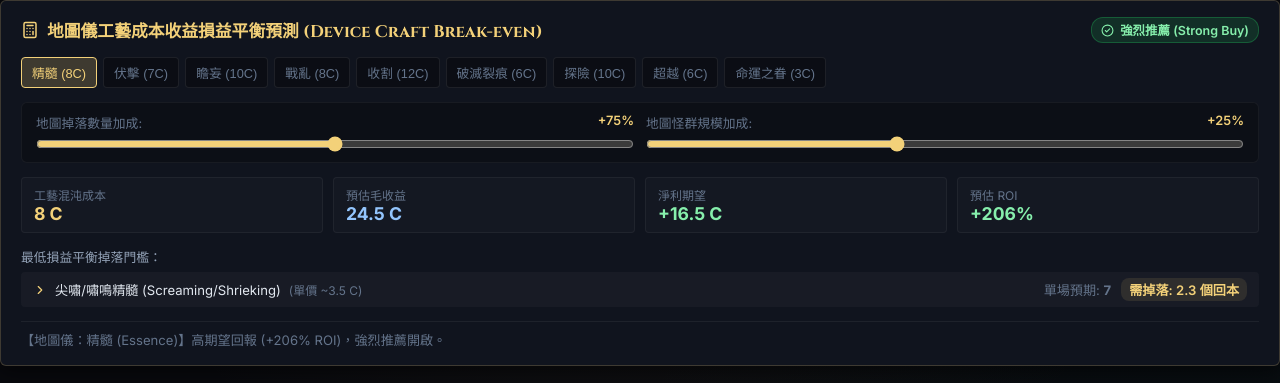
Test: DeviceBreakEvenCard › updates parameters when sliders change
Set the slider below "地圖掉落數量加成:" to "120" at coordinates (510, 144), box [36,136,634,152]
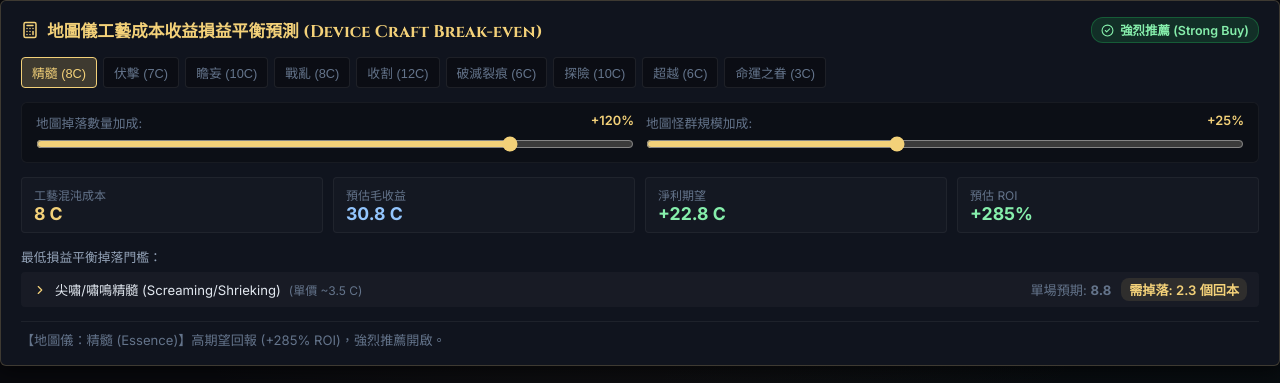
Expected: the text "+120%" is shown, [591,113,634,132]
